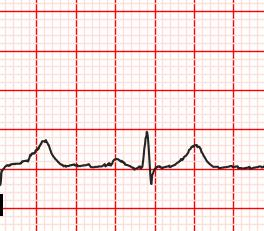Poor R Progression: (140, 130, 153, 167)
ST Depression: (139, 157, 157, 187)
